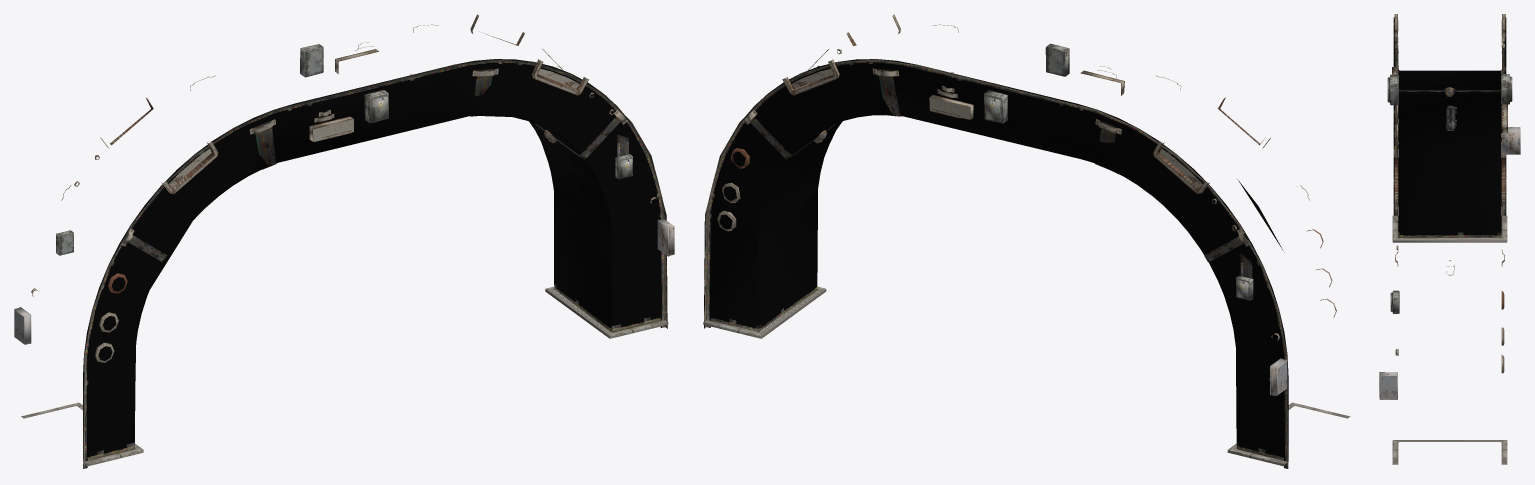
The model's file is transition-sn-0.glb.
The picture shows the model from 3 angles, left to right: view 1: azimuth 30°, elevation 25°; view 2: azimuth 150°, elevation 25°; view 3: azimuth 270°, elevation 25°; orthographic projection. The views are drawn at different scales.
Visible parts, largest first — view 1: train_tunnel_double_transition_wall_b_LOD0; view 2: train_tunnel_double_transition_wall_b_LOD0; view 3: train_tunnel_double_transition_wall_b_LOD0, FluorescentLight_LOD0.
Boxes of the visible parts, left/top/right/bottom form: train_tunnel_double_transition_wall_b_LOD0: left=14, top=14, right=674, bottom=468; train_tunnel_double_transition_wall_b_LOD0: left=703, top=14, right=1350, bottom=468; train_tunnel_double_transition_wall_b_LOD0: left=1379, top=14, right=1520, bottom=464; FluorescentLight_LOD0: left=1446, top=105, right=1456, bottom=130.
Size of the model in its own units: 16.5 by 8.5 by 3.96.
Materials: 8 (8 with a texture image).
